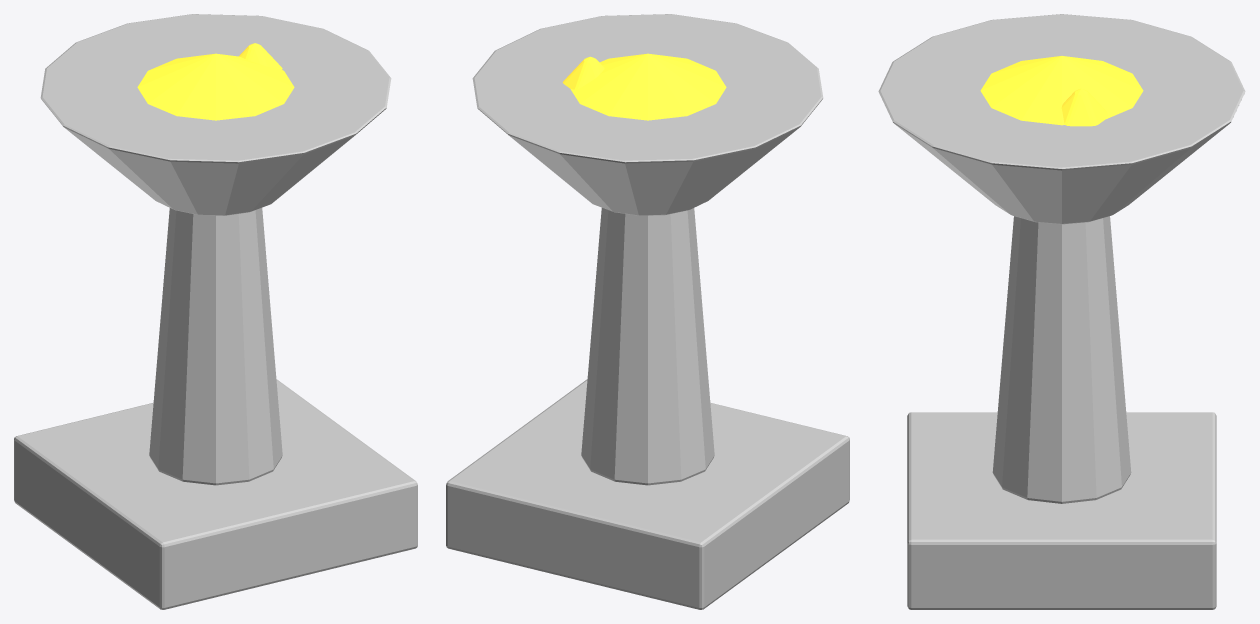
The model's file is mesopotamia_brazier.fbx.
3 renders of one model, left to right at view 1: azimuth 30°, elevation 25°; view 2: azimuth 150°, elevation 25°; view 3: azimuth 270°, elevation 25°, orthographic. The views are drawn at different scales.
Visible parts, largest first — view 1: mesopotamia_brazier; view 2: mesopotamia_brazier; view 3: mesopotamia_brazier.
Part boxes in pixels (<box>): mesopotamia_brazier: <box>14,14,417,609</box>; mesopotamia_brazier: <box>446,14,849,609</box>; mesopotamia_brazier: <box>878,14,1245,609</box>.
Size of the model in its own units: 0.9498 by 1.4 by 0.9498.
